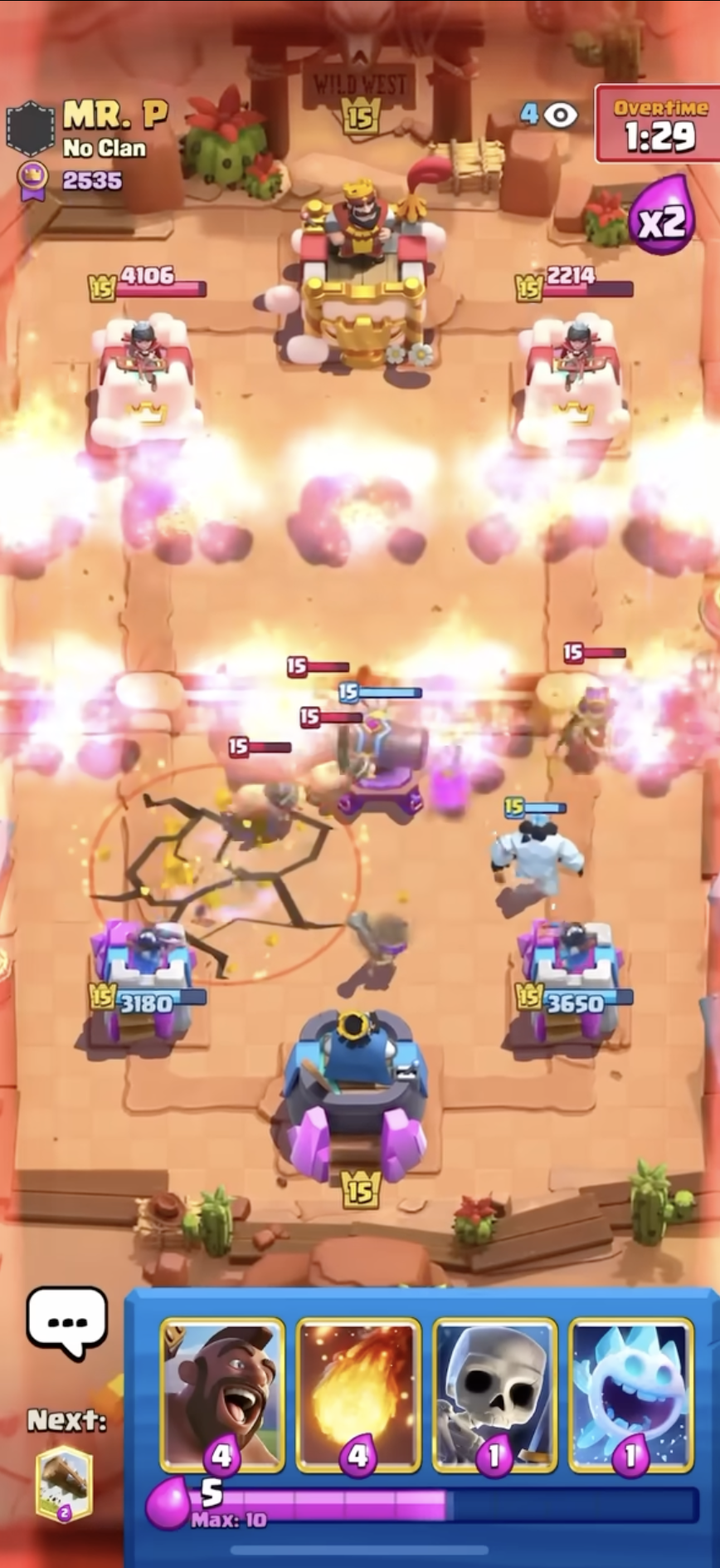evo_cannon: (321, 670, 448, 837)
ice_golem: (481, 786, 591, 918)
musketeer: (348, 889, 418, 1010)
